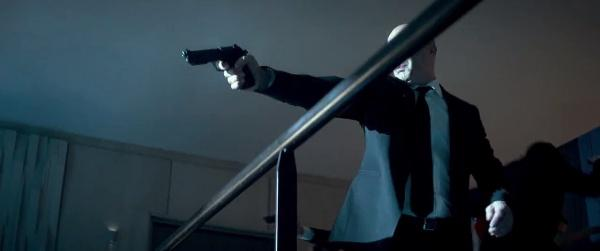Gun: (183, 43, 257, 90)
